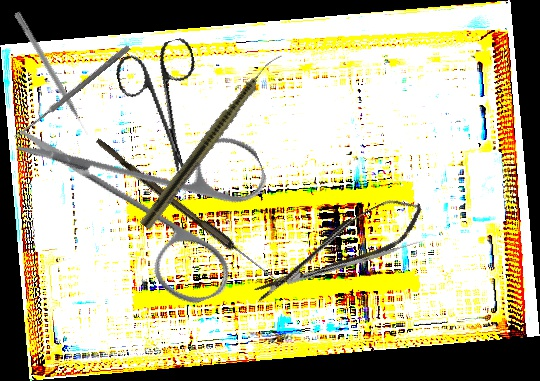Handpiece: (138, 46, 285, 233)
Iris Scissors: (11, 52, 301, 344), (111, 36, 224, 189)
Micro Scissor: (244, 188, 432, 311)
Pusher: (12, 10, 91, 138), (286, 238, 426, 285)
Surgical Spoon: (92, 137, 285, 288), (13, 43, 131, 142)
